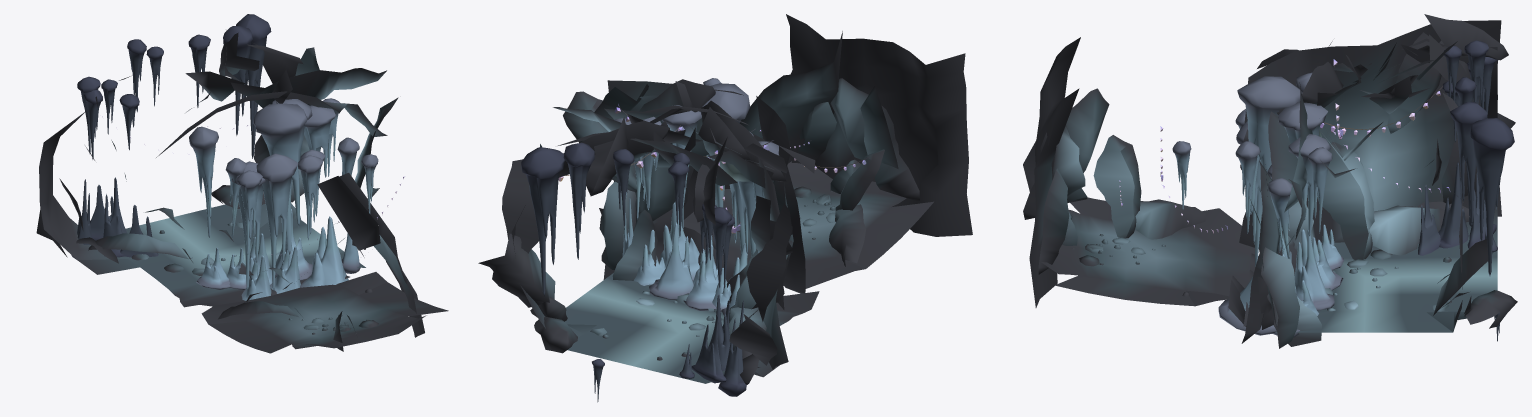
The model's file is Arctic_Tunnels_Turn_Left_B.glb.
The picture shows the model from 3 angles, left to right: view 1: azimuth 30°, elevation 25°; view 2: azimuth 150°, elevation 25°; view 3: azimuth 270°, elevation 25°; orthographic projection. The views are drawn at different scales.
Visible parts, largest first — view 1: Arctic_Tunnels_Turn_Left_B, Arctic_Tunnels_Icicle_Bright_A05, Arctic_Tunnels_Icicle_Bright_A08 (1), Arctic_Tunnels_Icicle_Bright_A04 (7), Arctic_Tunnels_Icicle_Bright_A07, Arctic_Tunnels_Icicle_Shadow_A02, Arctic_Tunnels_Icicle_Bright_A03, Arctic_Tunnels_Icicle_Bright_A08, Arctic_Tunnels_Icicle_Bright_A08 (2), Arctic_Tunnels_Icicle_Bright_A08 (3), Arctic_Tunnels_Icicle_Shadow_A07 (5), Arctic_Tunnels_Icicle_Bright_A04 (5) (+21 smaller); view 2: Arctic_Tunnels_Turn_Left_B, Arctic_Tunnels_Icicle_Shadow_A02, Arctic_Tunnels_Icicle_Bright_A03 (7), Arctic_Tunnels_Icicle_Shadow_A07 (5), Arctic_Tunnels_Icicle_Bright_A05, Arctic_Tunnels_Icicle_Bright_A04 (3), Arctic_Tunnels_Icicle_Shadow_A08 (1), Arctic_Tunnels_Icicle_Bright_A04 (7), Arctic_Tunnels_Icicle_Shadow_A08, Arctic_Tunnels_Icicle_Bright_A04 (6), Arctic_Tunnels_Icicle_Shadow_A07 (3), Arctic_Tunnels_Icicle_Bright_A08 (+6 smaller); view 3: Arctic_Tunnels_Turn_Left_B, Arctic_Tunnels_Icicle_Shadow_A02, Arctic_Tunnels_Icicle_Bright_A05, Arctic_Tunnels_Icicle_Shadow_A07 (5), Arctic_Tunnels_Icicle_Bright_A03 (7), Arctic_Tunnels_Icicle_Shadow_A05 (1), Arctic_Tunnels_Icicle_Bright_A03, Arctic_Tunnels_Icicle_Bright_A04, Arctic_Tunnels_Icicle_Bright_A02, Arctic_Tunnels_Icicle_Bright_A08 (3), Arctic_Tunnels_Icicle_Bright_A03 (5), Arctic_Tunnels_Icicle_Shadow_A08 (2) (+9 smaller).
Boxes of the visible parts, bbox=[...] form: Arctic_Tunnels_Turn_Left_B: bbox=[36, 30, 448, 353]; Arctic_Tunnels_Icicle_Bright_A05: bbox=[253, 103, 307, 254]; Arctic_Tunnels_Icicle_Bright_A08 (1): bbox=[256, 153, 298, 291]; Arctic_Tunnels_Icicle_Bright_A04 (7): bbox=[300, 216, 348, 287]; Arctic_Tunnels_Icicle_Bright_A07: bbox=[189, 126, 218, 237]; Arctic_Tunnels_Icicle_Shadow_A02: bbox=[236, 14, 271, 158]; Arctic_Tunnels_Icicle_Bright_A03: bbox=[304, 105, 335, 177]; Arctic_Tunnels_Icicle_Bright_A08: bbox=[231, 161, 265, 290]; Arctic_Tunnels_Icicle_Bright_A08 (2): bbox=[237, 170, 262, 254]; Arctic_Tunnels_Icicle_Bright_A08 (3): bbox=[298, 155, 323, 239]; Arctic_Tunnels_Icicle_Shadow_A07 (5): bbox=[223, 26, 252, 135]; Arctic_Tunnels_Icicle_Bright_A04 (5): bbox=[270, 246, 300, 293]; Arctic_Tunnels_Turn_Left_B: bbox=[478, 14, 972, 384]; Arctic_Tunnels_Icicle_Shadow_A02: bbox=[521, 147, 564, 296]; Arctic_Tunnels_Icicle_Bright_A03 (7): bbox=[649, 223, 693, 299]; Arctic_Tunnels_Icicle_Shadow_A07 (5): bbox=[563, 142, 594, 259]; Arctic_Tunnels_Icicle_Bright_A05: bbox=[700, 83, 750, 207]; Arctic_Tunnels_Icicle_Bright_A04 (3): bbox=[683, 245, 718, 310]; Arctic_Tunnels_Icicle_Shadow_A08 (1): bbox=[691, 315, 726, 383]; Arctic_Tunnels_Icicle_Bright_A04 (7): bbox=[659, 202, 699, 280]; Arctic_Tunnels_Icicle_Shadow_A08: bbox=[718, 300, 746, 396]; Arctic_Tunnels_Icicle_Bright_A04 (6): bbox=[634, 230, 665, 285]; Arctic_Tunnels_Icicle_Shadow_A07 (3): bbox=[613, 149, 634, 226]; Arctic_Tunnels_Icicle_Bright_A08: bbox=[737, 181, 755, 256]; Arctic_Tunnels_Turn_Left_B: bbox=[1023, 14, 1517, 348]; Arctic_Tunnels_Icicle_Shadow_A02: bbox=[1470, 118, 1514, 276]; Arctic_Tunnels_Icicle_Bright_A05: bbox=[1237, 76, 1302, 214]; Arctic_Tunnels_Icicle_Shadow_A07 (5): bbox=[1450, 102, 1487, 224]; Arctic_Tunnels_Icicle_Bright_A03 (7): bbox=[1294, 230, 1334, 310]; Arctic_Tunnels_Icicle_Shadow_A05 (1): bbox=[1438, 162, 1468, 248]; Arctic_Tunnels_Icicle_Bright_A03: bbox=[1288, 134, 1330, 236]; Arctic_Tunnels_Icicle_Bright_A04: bbox=[1278, 102, 1327, 143]; Arctic_Tunnels_Icicle_Bright_A02: bbox=[1268, 178, 1292, 258]; Arctic_Tunnels_Icicle_Bright_A08 (3): bbox=[1235, 141, 1260, 233]; Arctic_Tunnels_Icicle_Bright_A03 (5): bbox=[1308, 147, 1332, 233]; Arctic_Tunnels_Icicle_Shadow_A08 (2): bbox=[1418, 185, 1440, 255].
Size of what is drawn, in the model's own units: 11.82 by 9.68 by 16.25.
